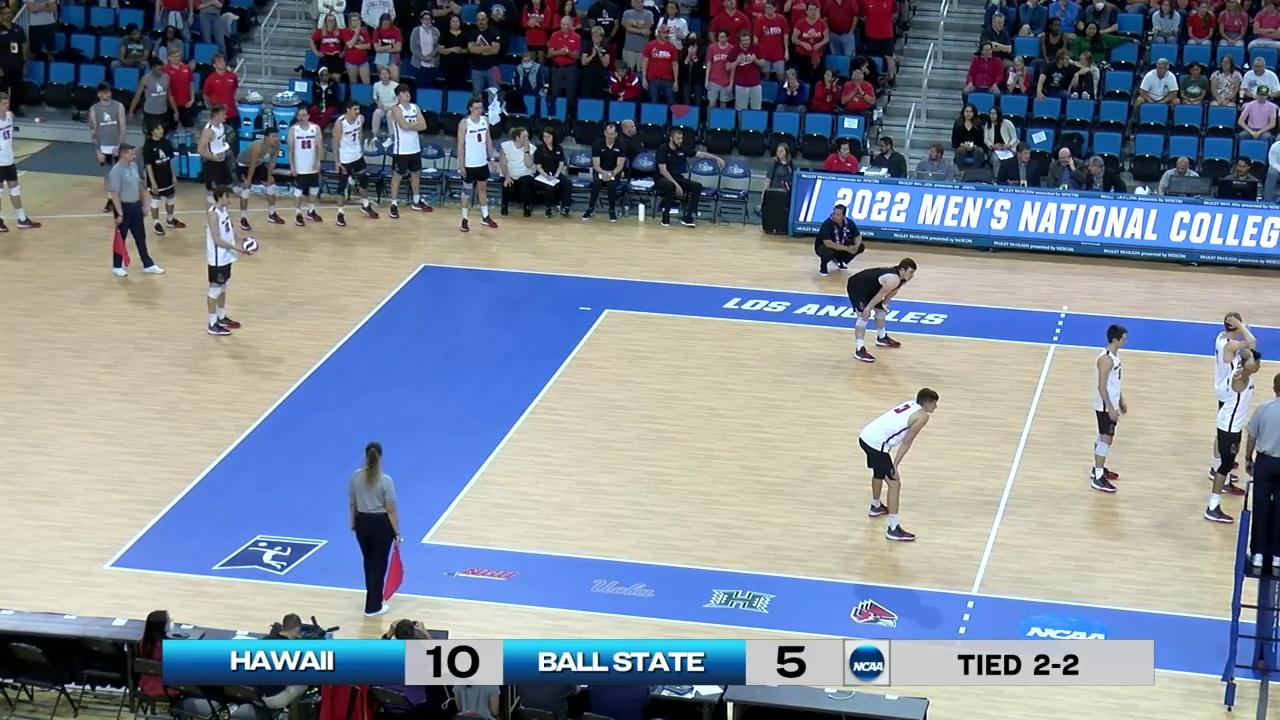player: (859, 389, 939, 543), (1204, 348, 1260, 523), (198, 190, 255, 336), (840, 259, 918, 363), (1210, 314, 1254, 484), (1088, 326, 1129, 492)
refree: (346, 442, 403, 614), (1242, 373, 1280, 576), (108, 145, 159, 280)
